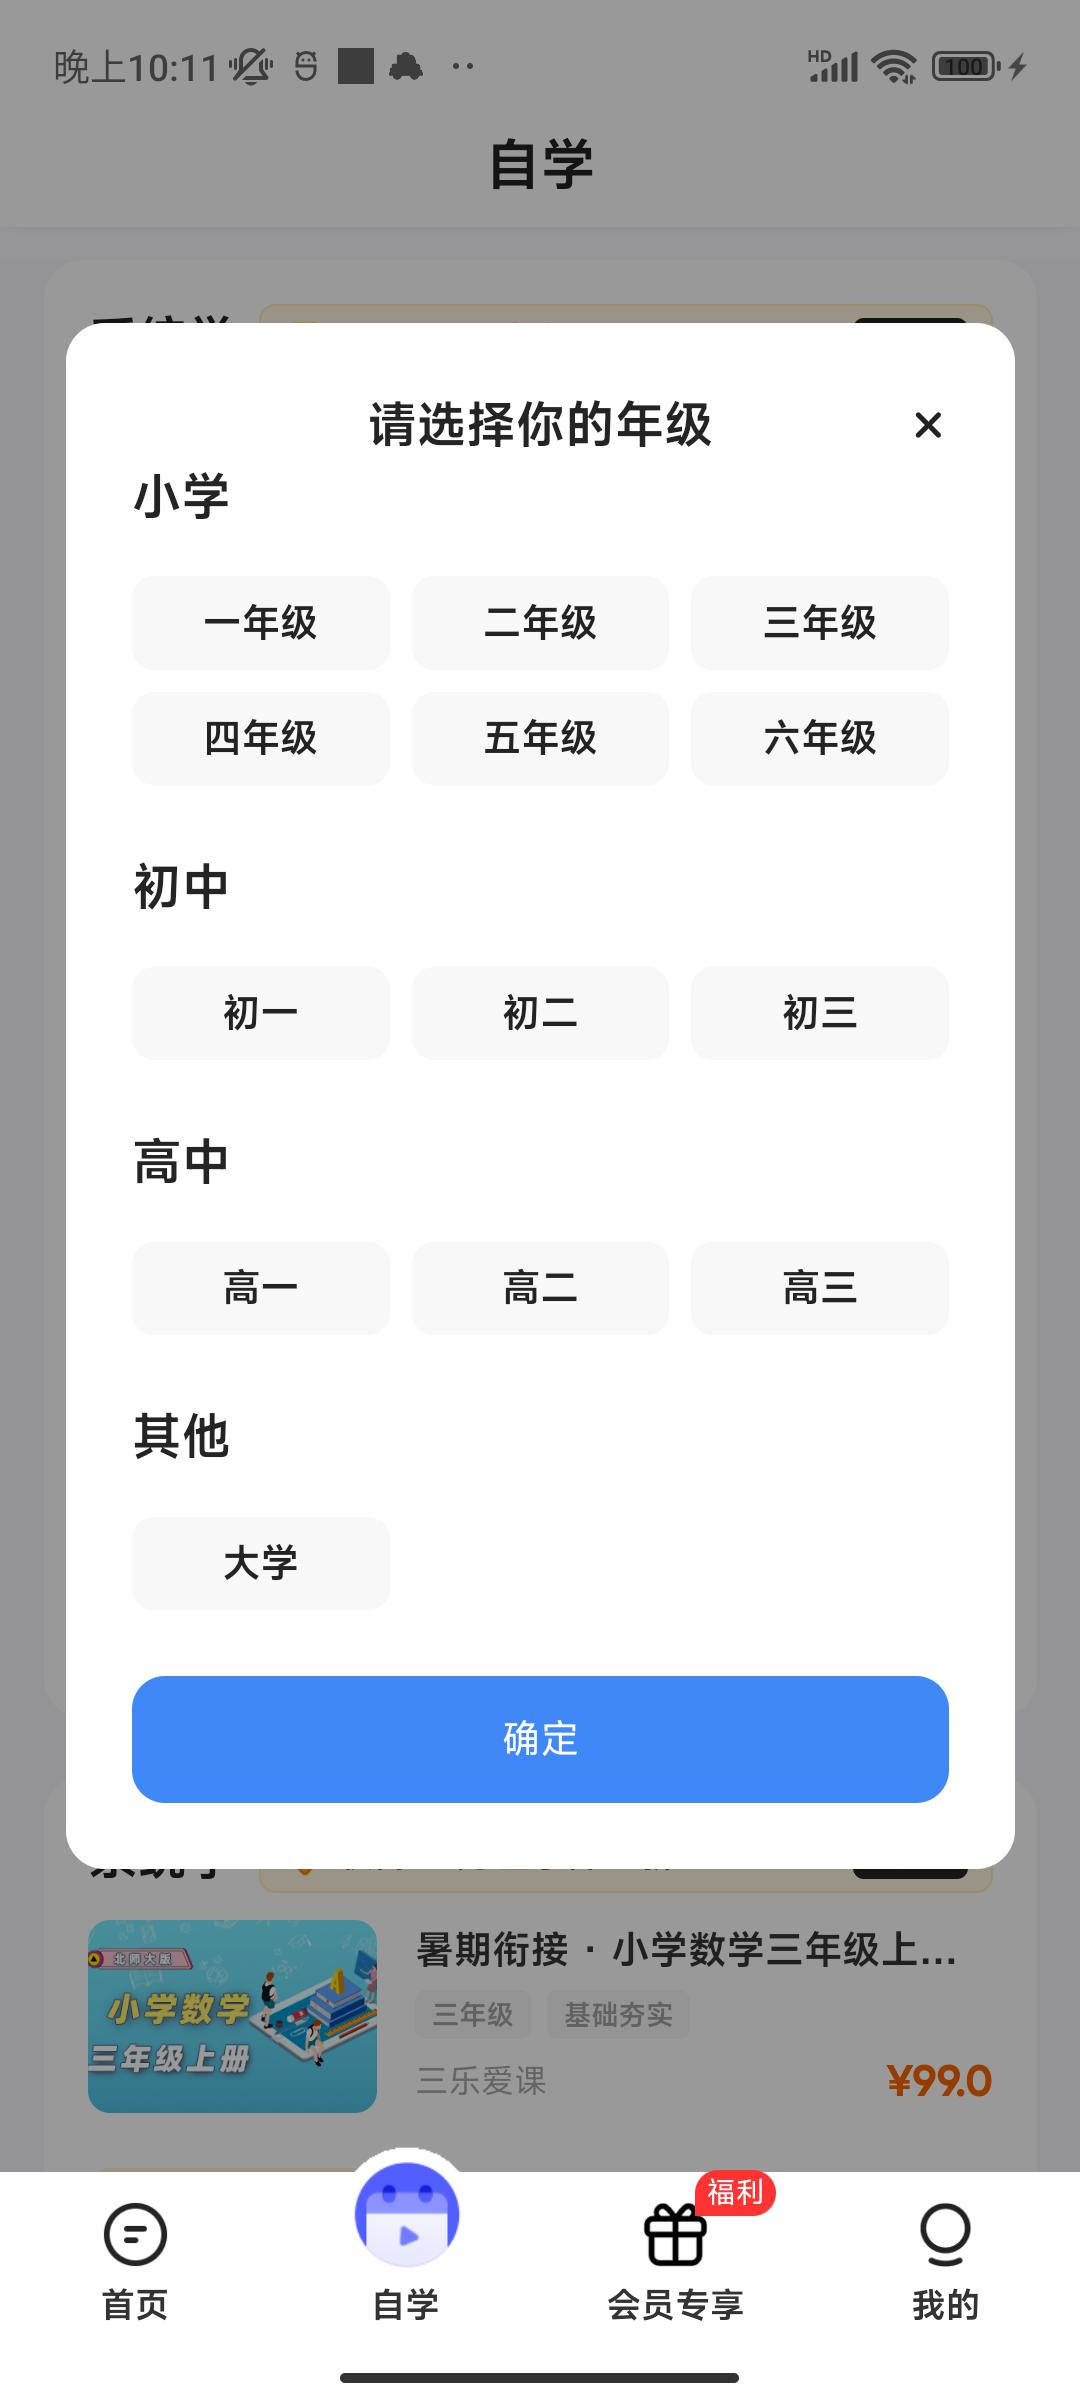ui_group: (72, 338, 1004, 1861)
